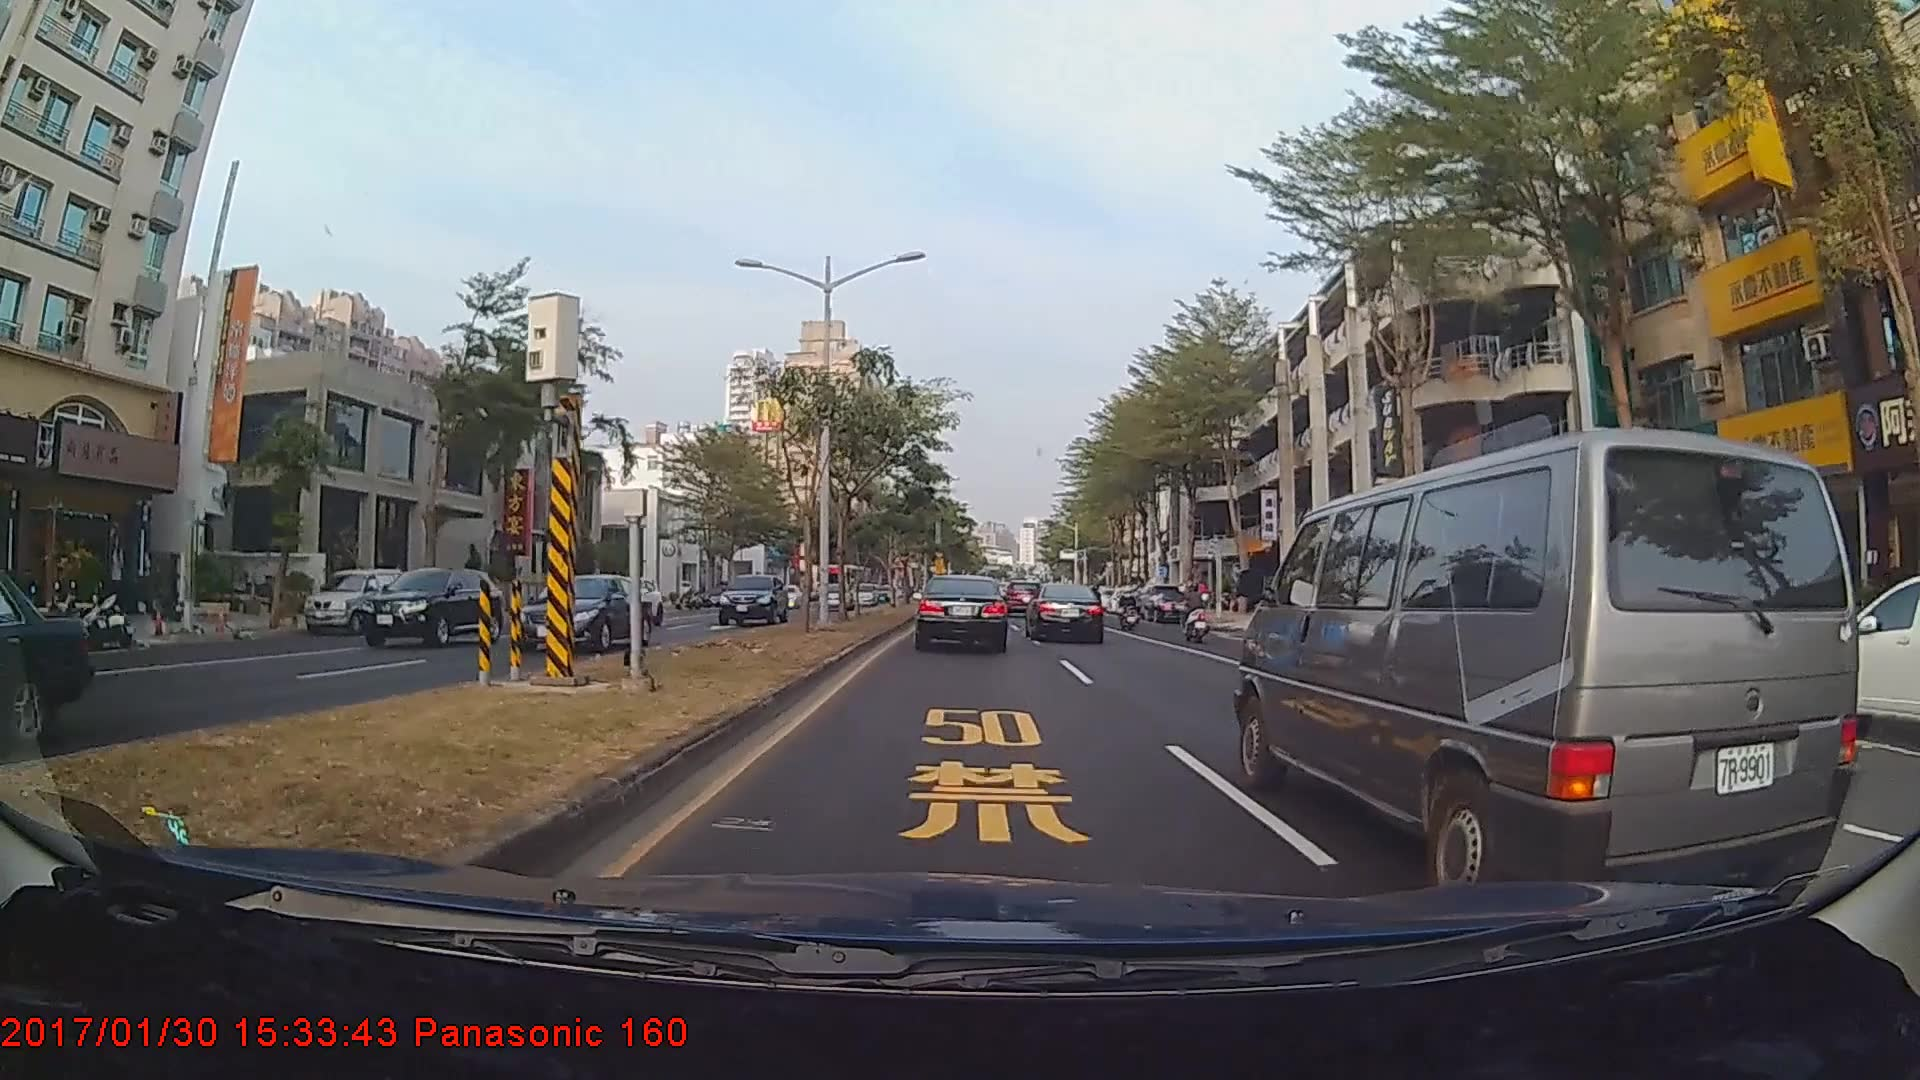rider: (1172, 580, 1217, 644)
vehicle: (1229, 413, 1856, 906), (0, 567, 91, 750), (352, 566, 504, 648), (512, 574, 652, 651), (304, 568, 414, 636), (915, 573, 1007, 652), (1024, 582, 1105, 645), (717, 573, 788, 624), (1135, 591, 1193, 623), (1004, 578, 1045, 617)
